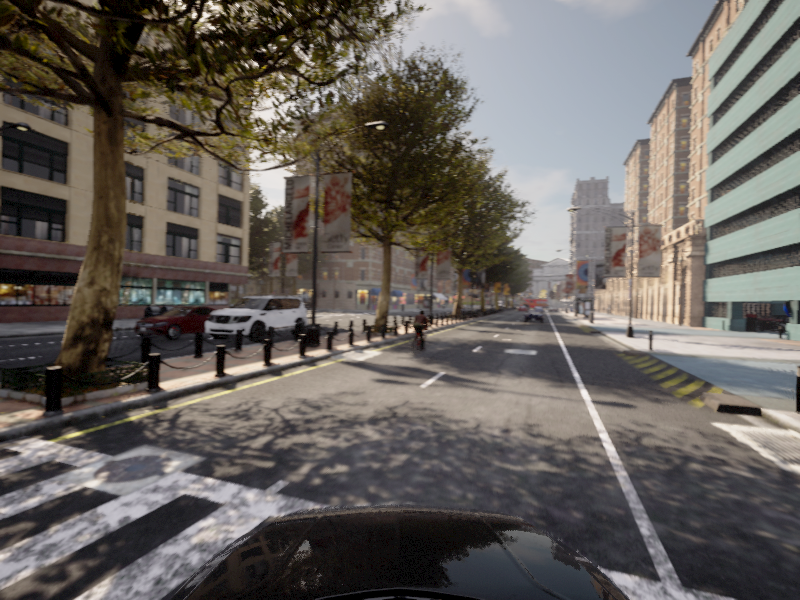vehicle: (198, 293, 313, 345), (126, 305, 240, 341), (405, 310, 433, 356), (523, 309, 543, 323)
